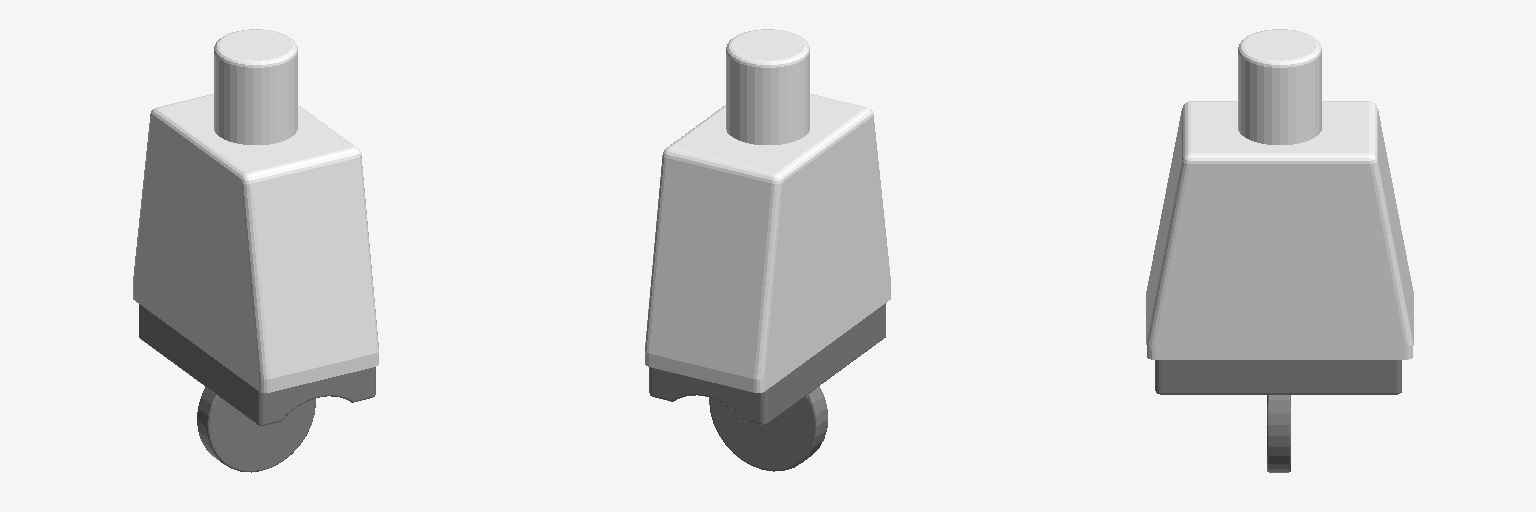
3 views of the same model, side by side, from view 1: azimuth 30°, elevation 25°; view 2: azimuth 150°, elevation 25°; view 3: azimuth 270°, elevation 25° (orthographic).
Visible parts, largest first — view 1: Cube_001, Circle_001; view 2: Cube_001, Circle_001; view 3: Cube_001, Circle_001.
Boxes of the visible parts, x1,y1,x2,y2 form: Cube_001: [133, 29, 378, 392]; Circle_001: [139, 304, 375, 472]; Cube_001: [645, 29, 890, 392]; Circle_001: [649, 303, 885, 471]; Cube_001: [1146, 29, 1413, 359]; Circle_001: [1155, 360, 1401, 472].
Bounding box in the file's own units: 22.45 × 75.75 × 43.49.
2 materials, 1 textured.